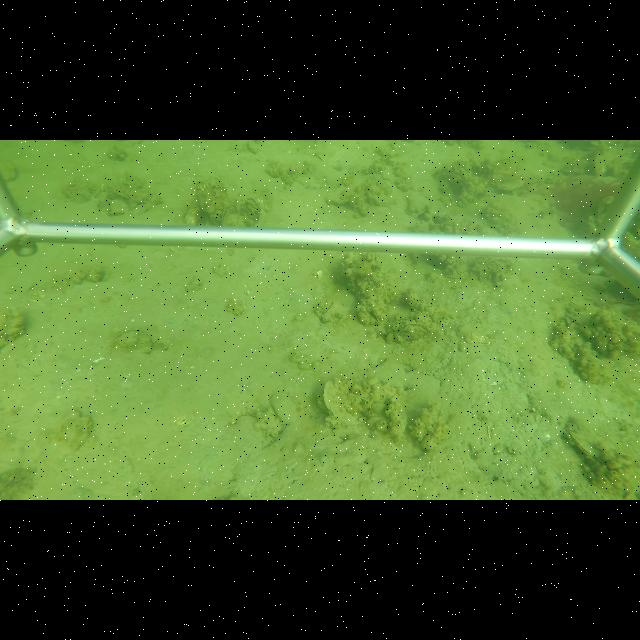Oyster-Closed: (319, 380, 368, 429), (566, 428, 611, 470), (110, 329, 157, 348), (219, 206, 249, 226)
